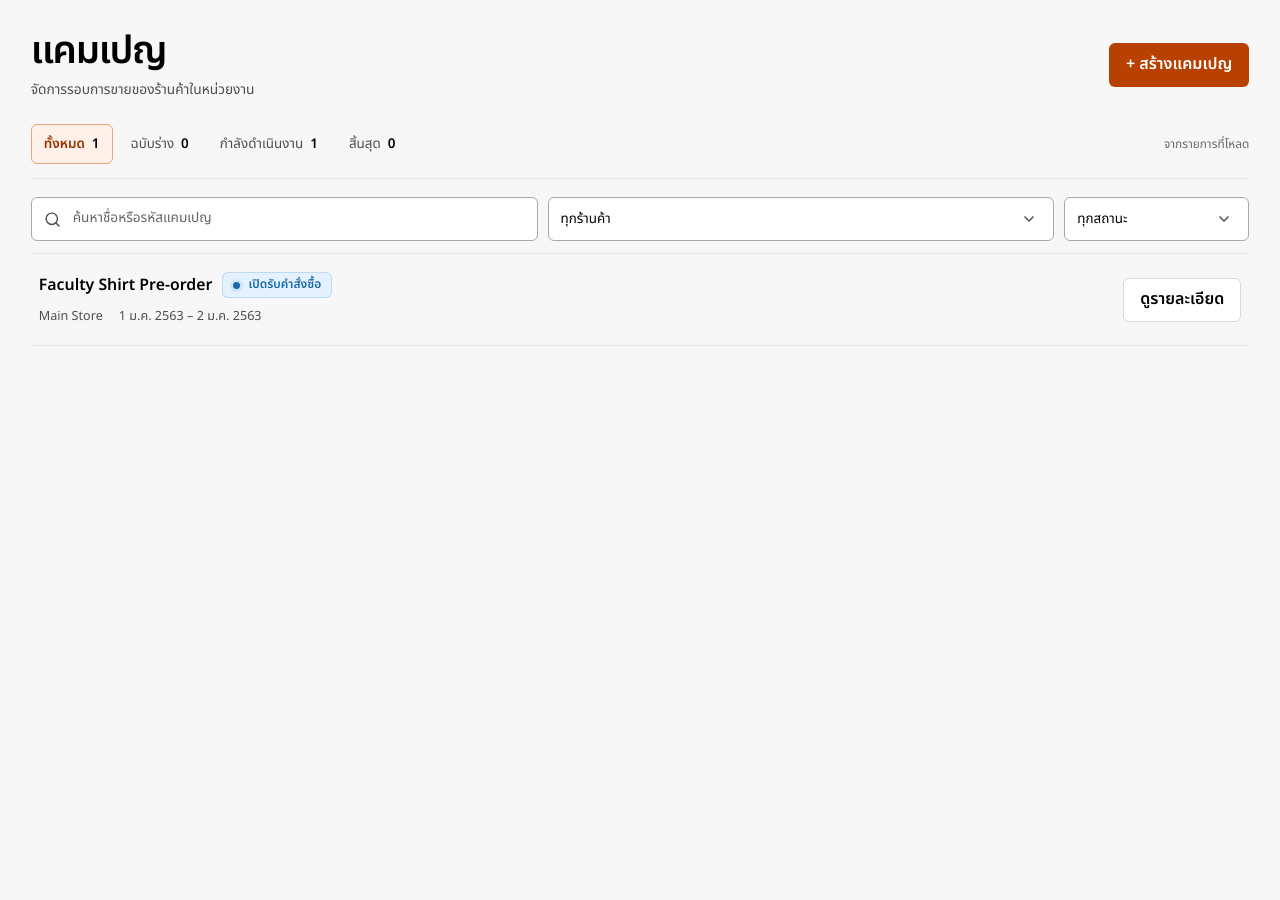
Test case: CampaignManagementView › shows non-DRAFT campaigns read-only and does not infer lifecycle from planned dates
The image size is (1280, 900).
Click the button "ดูรายละเอียด": (1182, 300) [1123,278,1241,322]
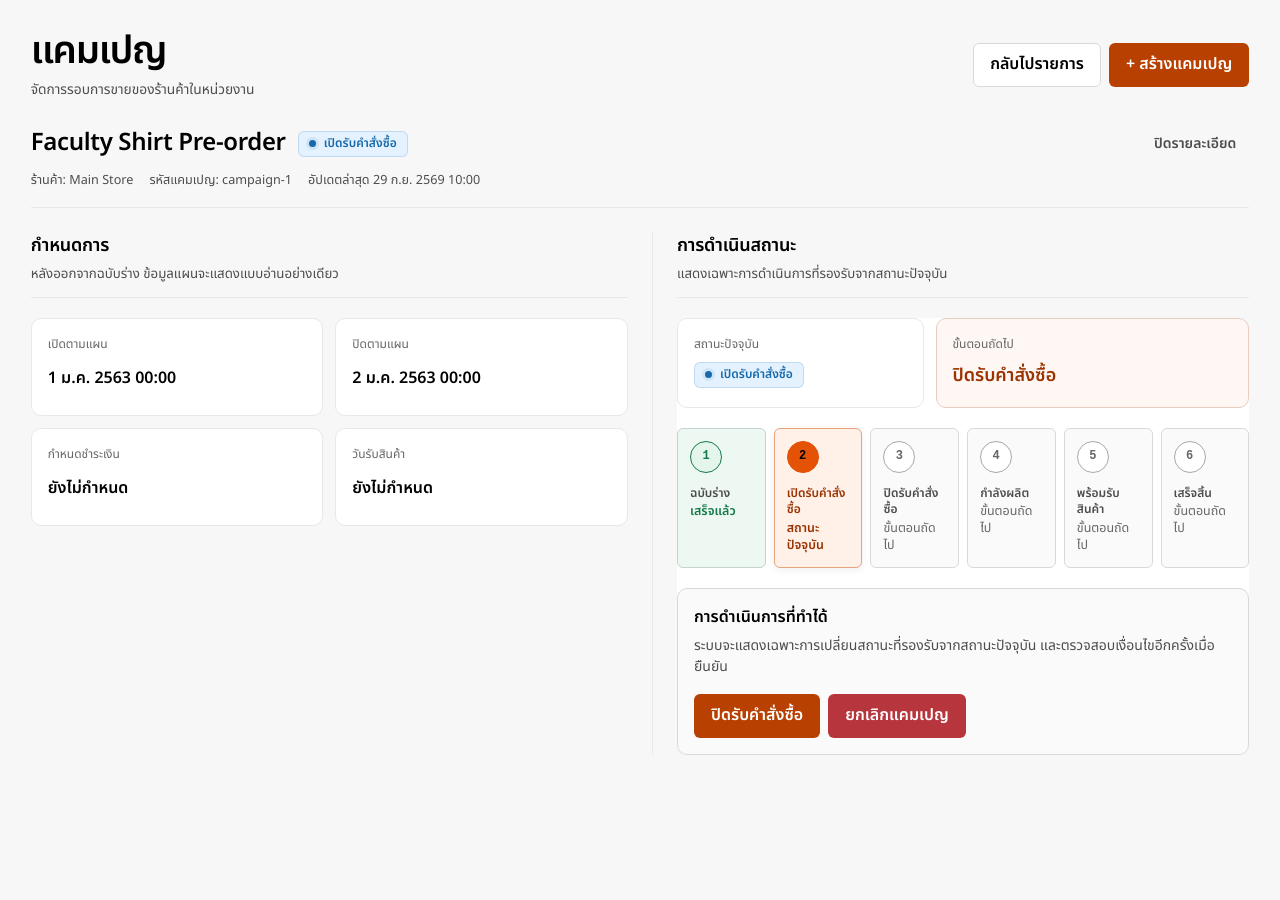
Expected: the text "หลังออกจากฉบับร่าง ข้อมูลแผนจะแสดงแบบอ่านอย่างเดียว" is shown, [31,264,339,284]
Expected: the button "ปิดรับคำสั่งซื้อ" is shown, [694,694,820,738]
